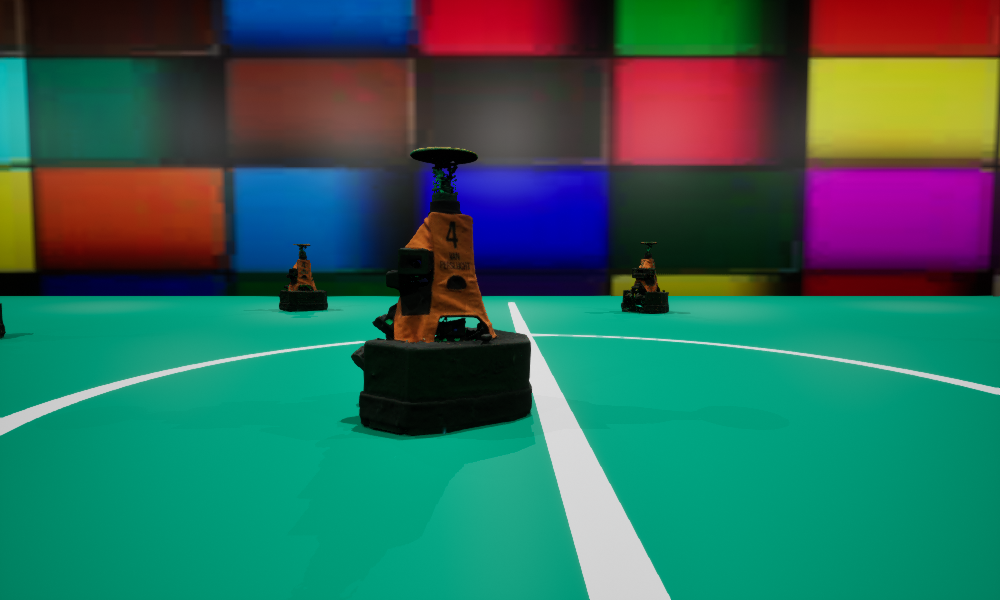o: (351, 147, 531, 434), (621, 242, 668, 312), (278, 244, 327, 310), (0, 303, 5, 336)
